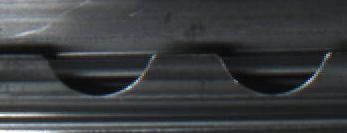twou: (56, 47, 316, 102)
